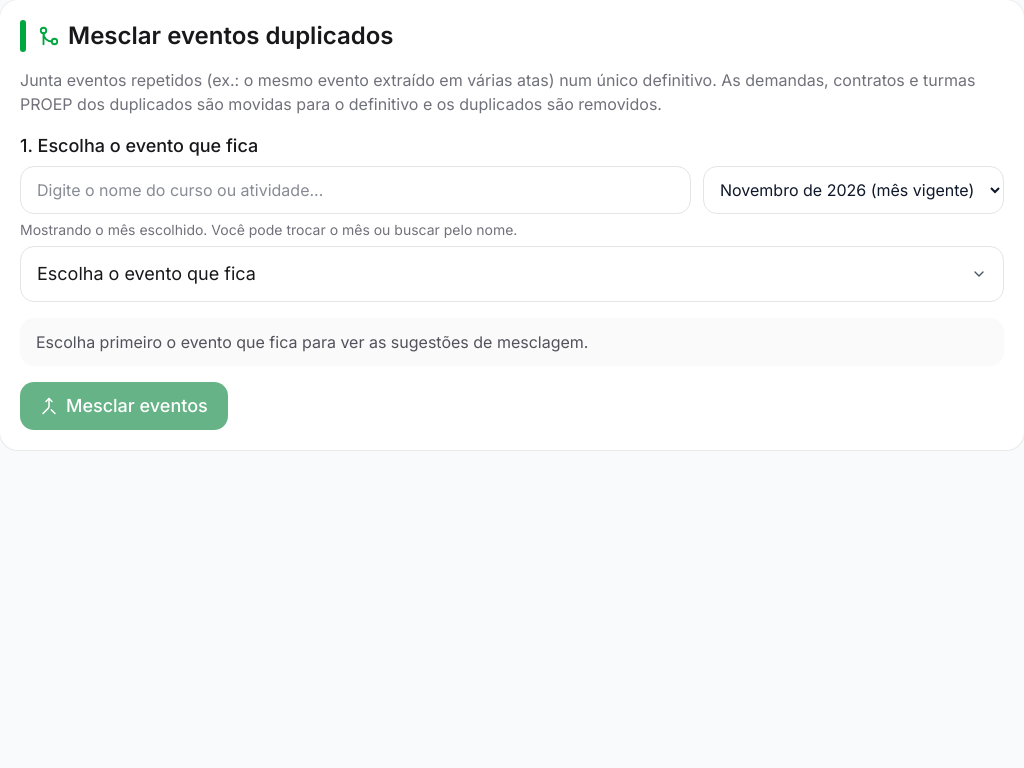
Test: escolha do evento definitivo para mesclar › encontra duplicados usando datas no formato brasileiro
Click the dropdown named "Escolha o evento definitivo" at point(146, 274), box [20,246,1004,302]
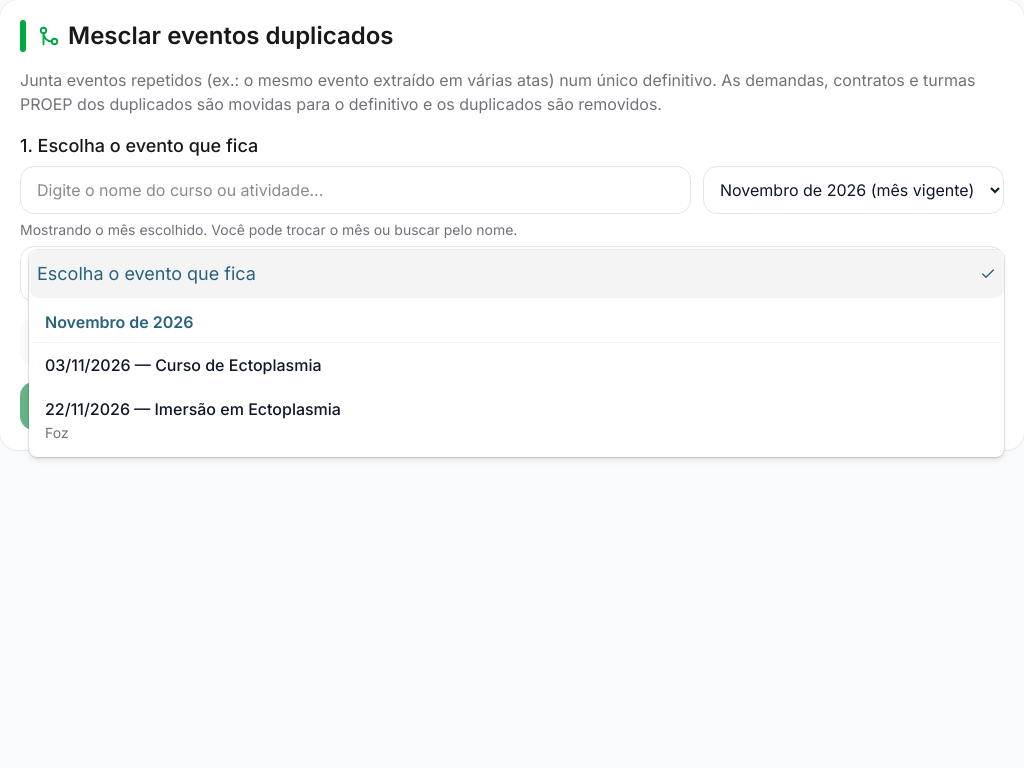
Click the option "03/11/2026 — Curso de Ectoplasmia" at point(183, 365), box [45,355,322,375]
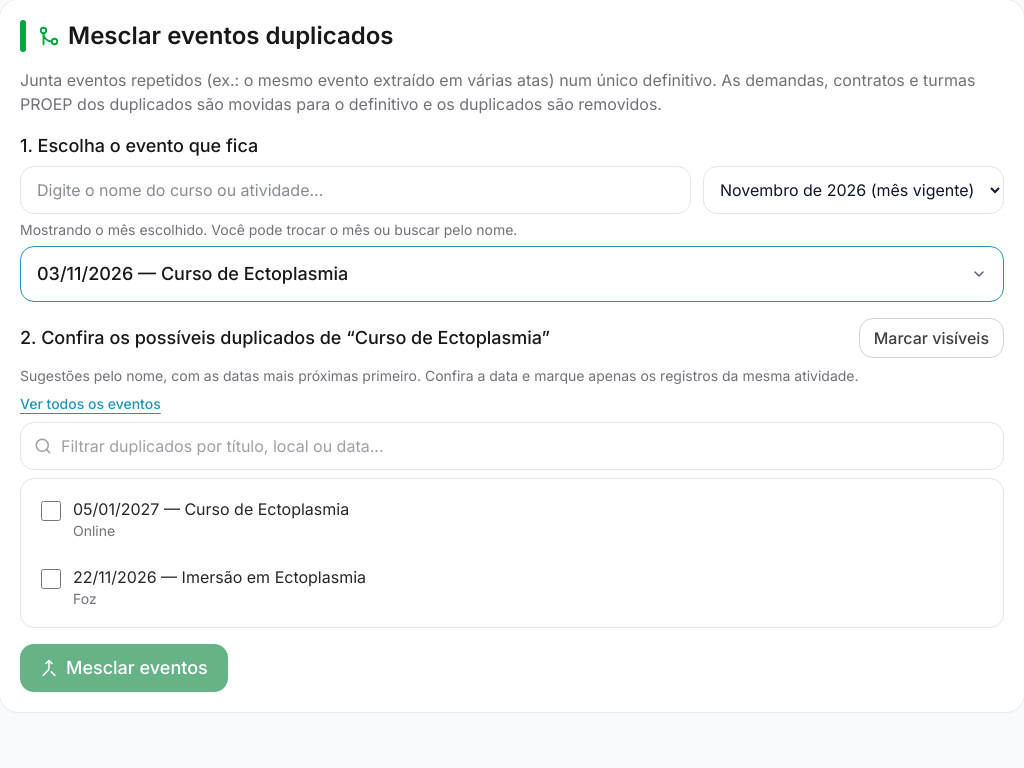
Type "22/11/2026" into the search field named "Filtrar eventos duplicados" at point(512, 446), box [20,422,1004,470]
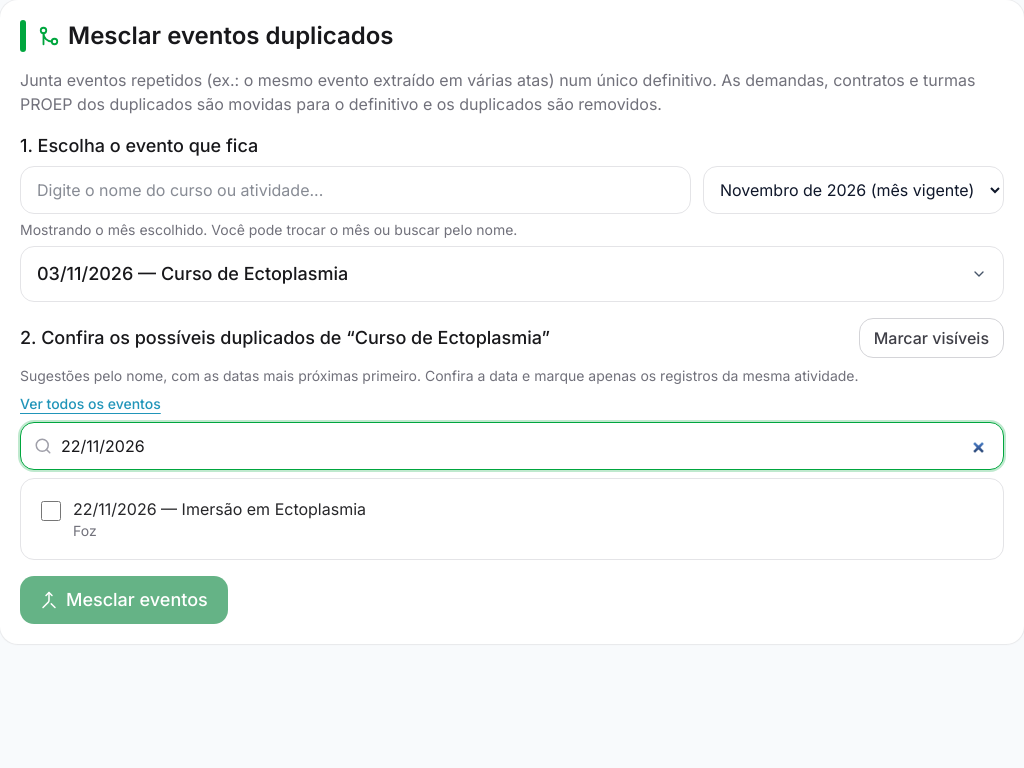
Check: the number of checkboxes is 1, box [41,501,61,521]
